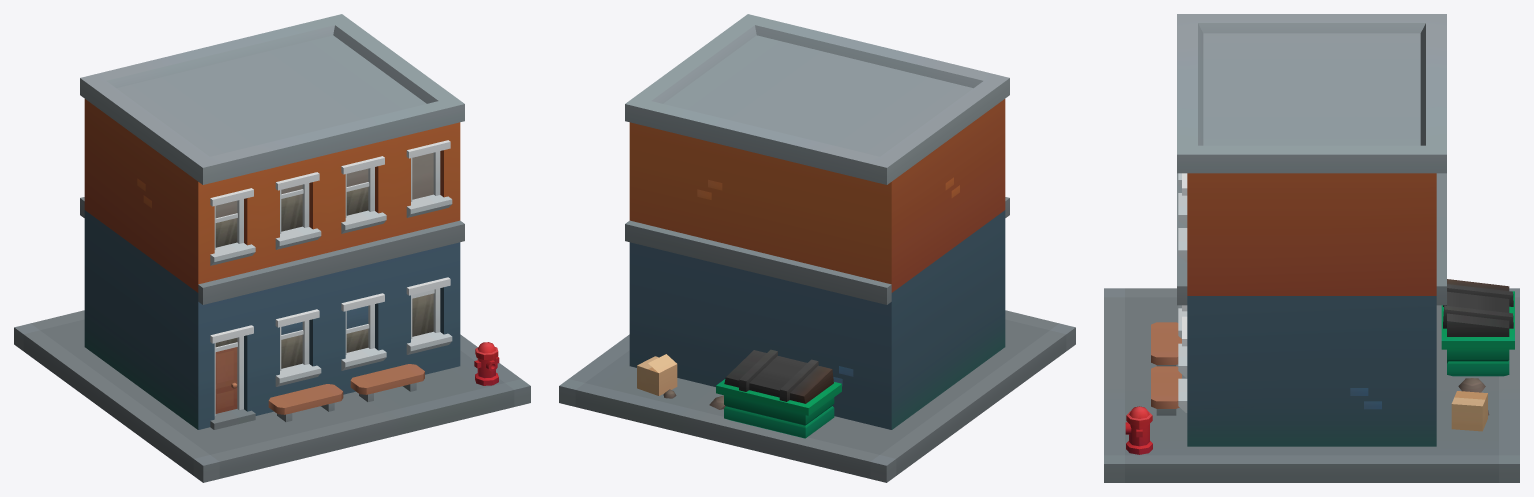
The model's file is kkcity.building_b.glb.
3 renders of one model, left to right at view 1: azimuth 30°, elevation 25°; view 2: azimuth 150°, elevation 25°; view 3: azimuth 270°, elevation 25°, orthographic. The views are drawn at different scales.
Visible parts, largest first — view 1: building_B; view 2: building_B; view 3: building_B.
Part boxes in pixels (x1,y1,x2,y2): building_B: [14, 14, 530, 482]; building_B: [559, 14, 1075, 482]; building_B: [1104, 14, 1519, 482].
Size of the model in its own units: 9.59 by 7.92 by 9.59.
1 material, 1 textured.
